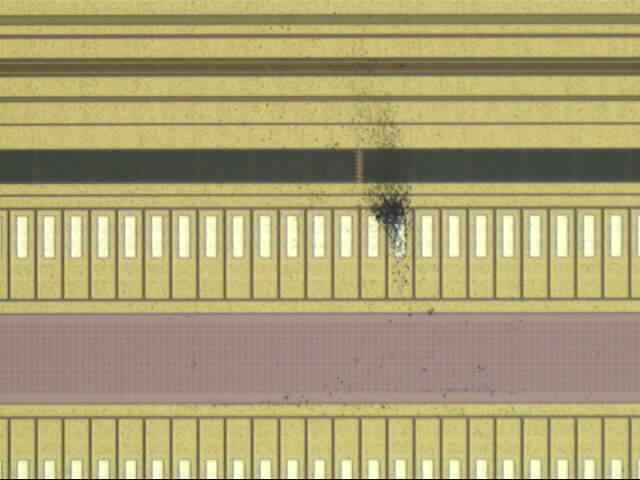PO CONTAMINATION: (251, 7, 416, 316)
